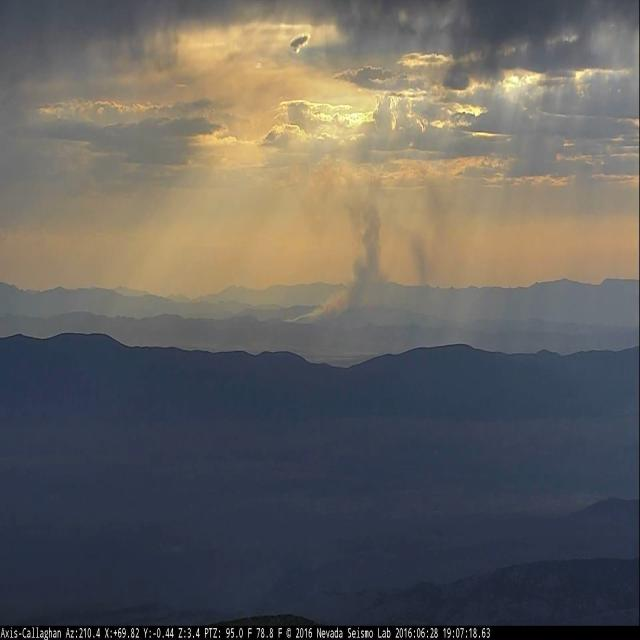smoke: (287, 207, 378, 329)
